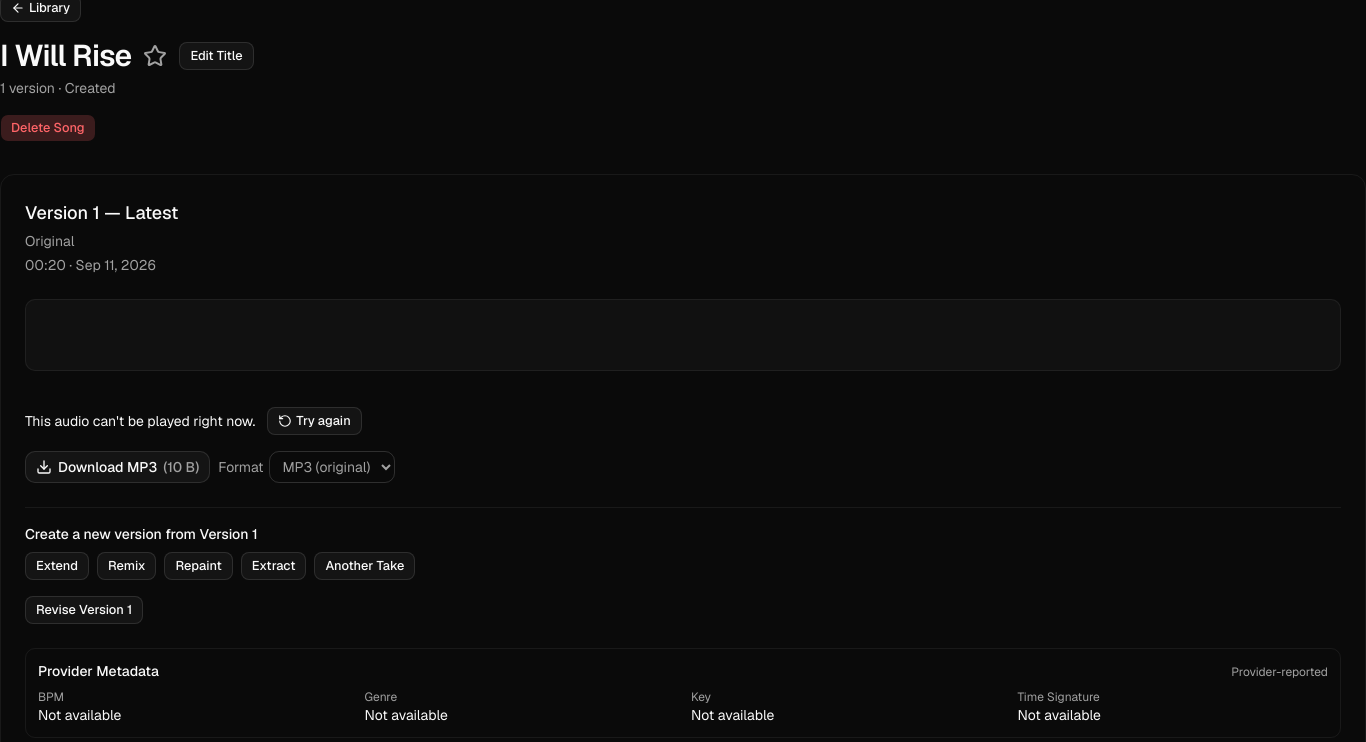
Test case: Version actions › Repaint 10 to 25 is rejected in the form (cannot be after the end of this version (20 s)) without a request
Click the button "Repaint" at x=199, y=566, box [164,552,233,580]
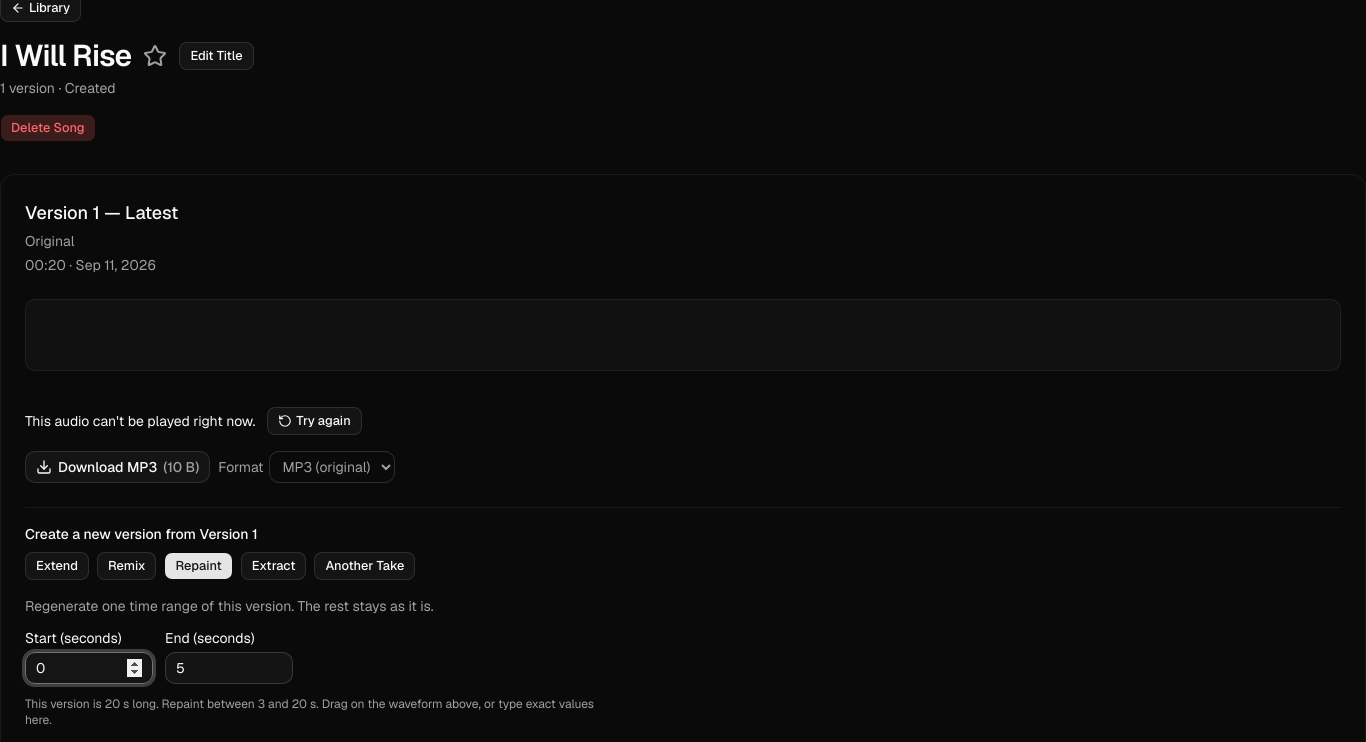
Replace the text in the number field labelled "Start (seconds)" with "10" at x=89, y=668, box [25,652,153,684]
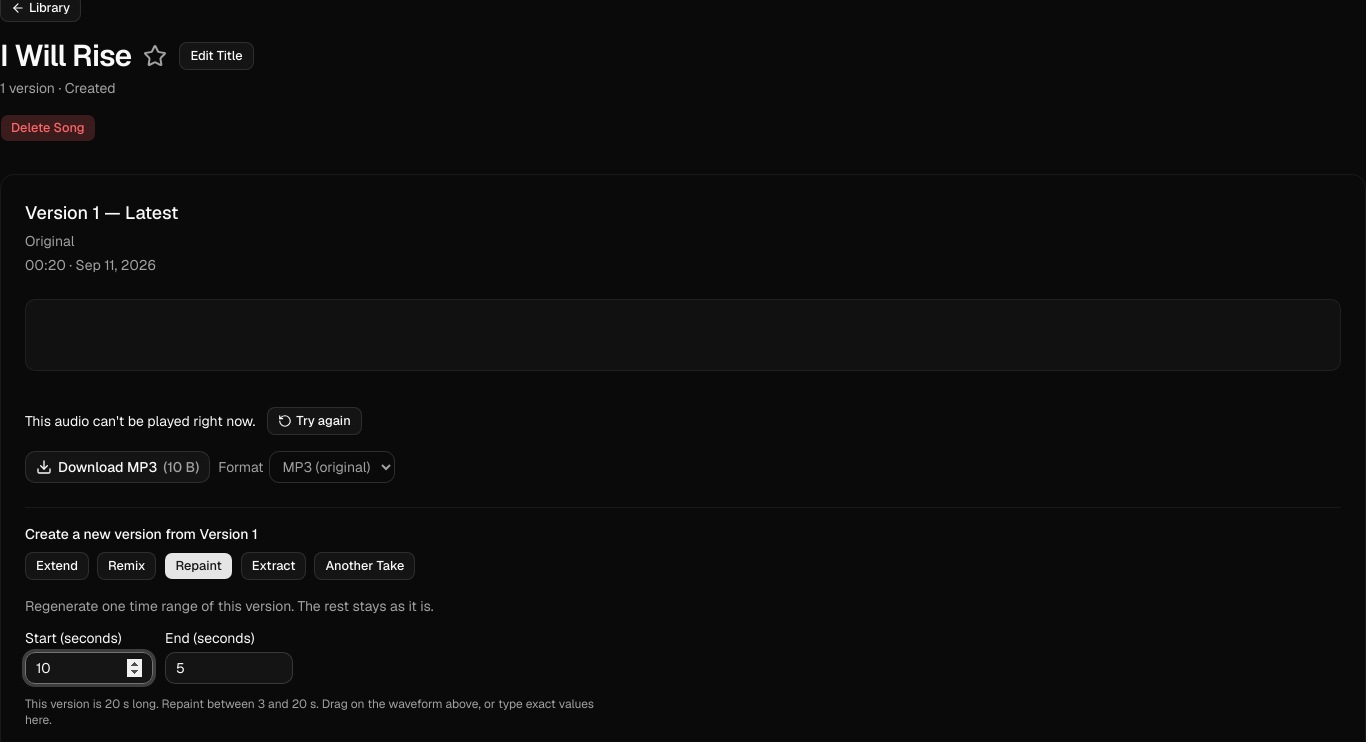
Replace the text in the number field labelled "End (seconds)" with "25" at x=229, y=668, box [165,652,293,684]
(page scrolled)
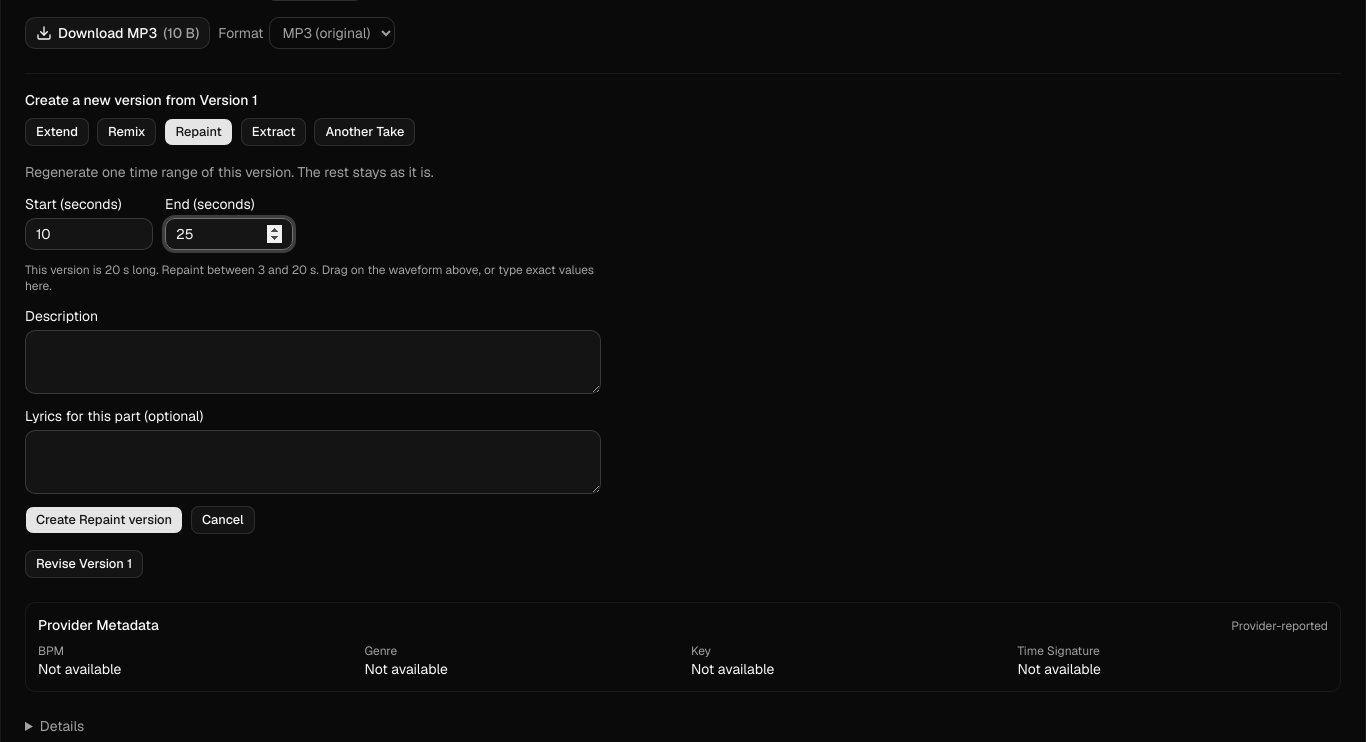
Type "drums" into the text box labelled "Description" at x=313, y=362, box [25,330,601,394]
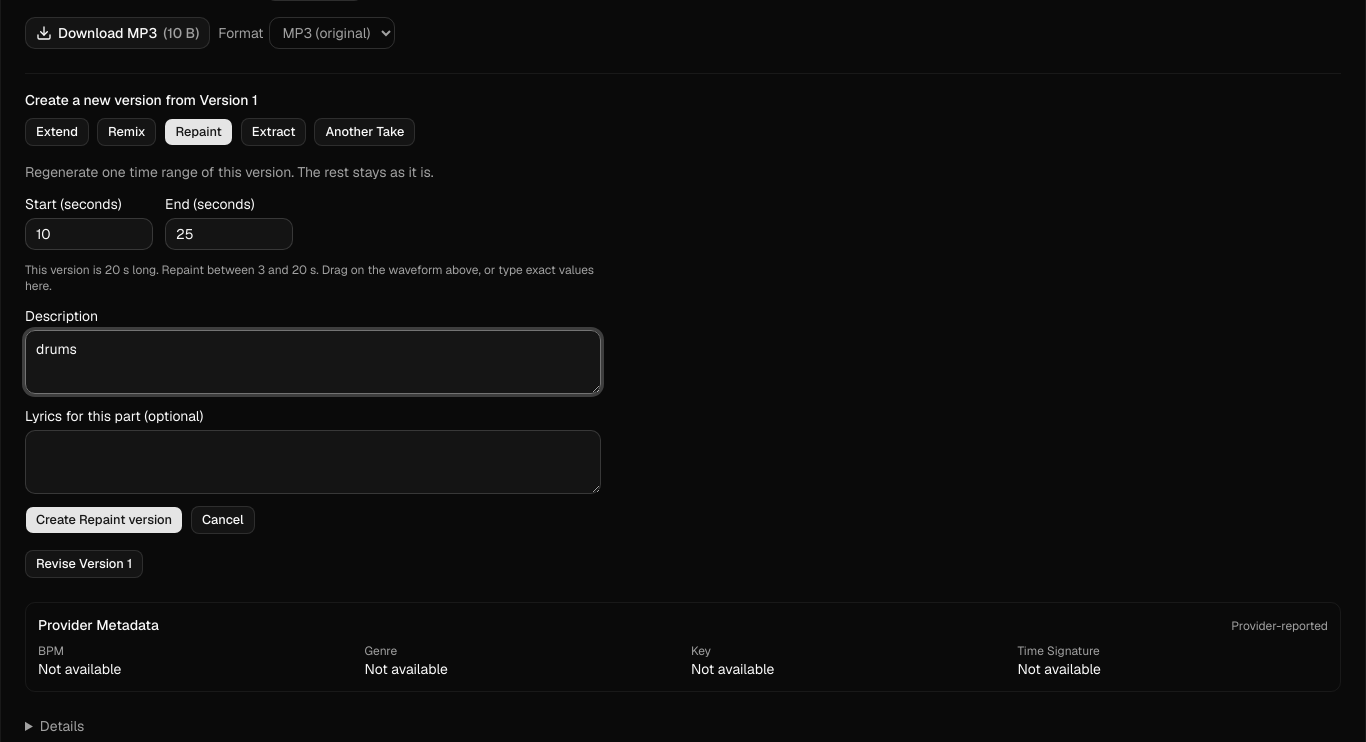
Click the button "Create Repaint version" at x=104, y=520, box [25,506,183,534]
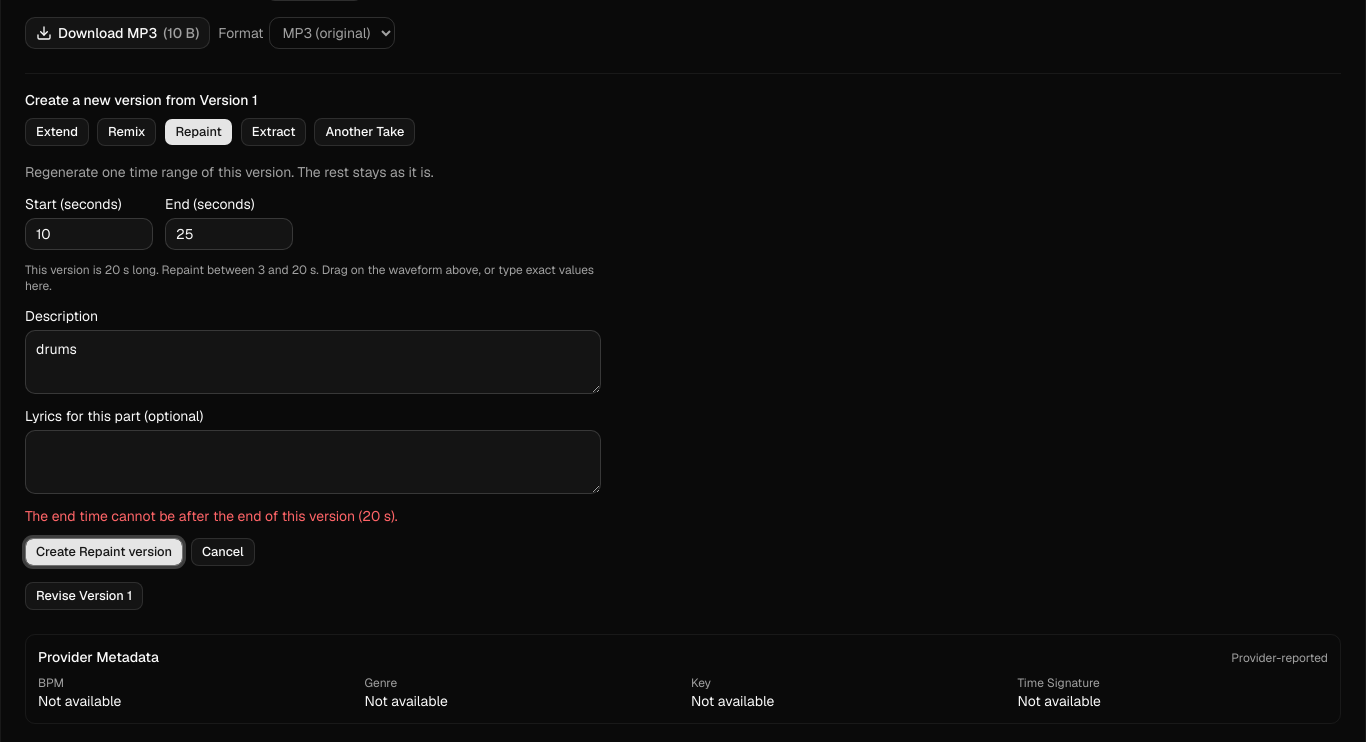
Check: the message with test id "op-error" shows "cannot be after the end of this version (20 s)", box [25,507,398,525]
